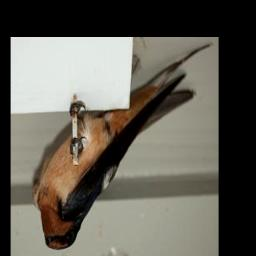Swallow: (38, 48, 215, 251)
